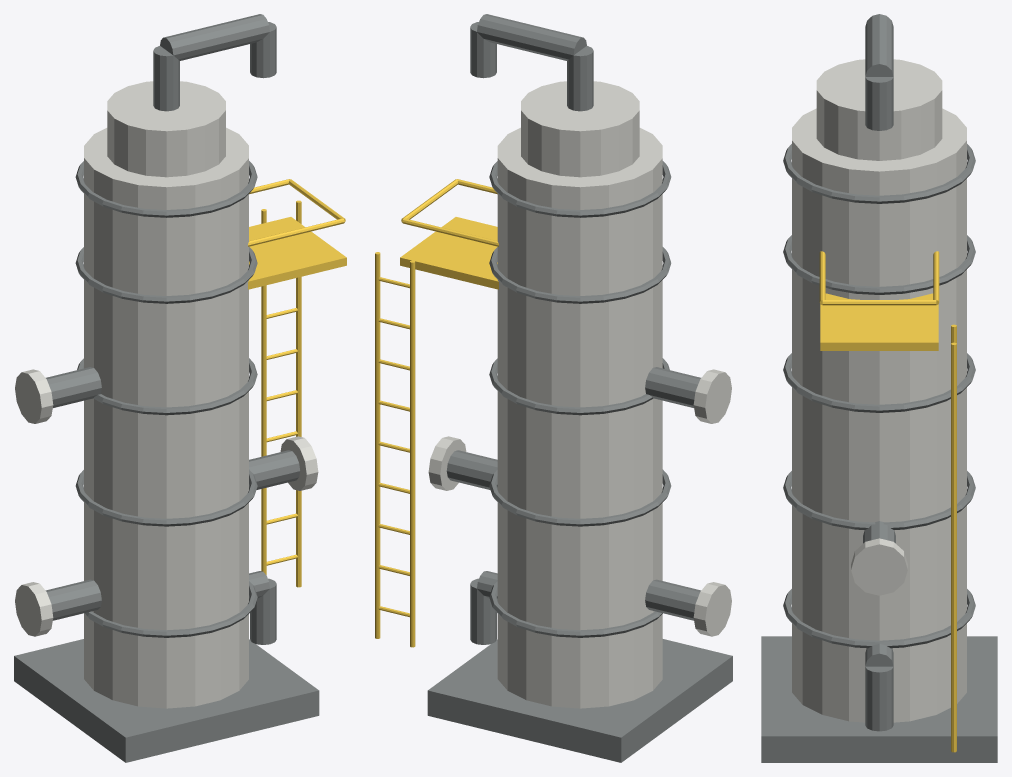
File: absorber column.fbx
The picture shows the model from 3 angles, left to right: view 1: azimuth 30°, elevation 25°; view 2: azimuth 150°, elevation 25°; view 3: azimuth 270°, elevation 25°; orthographic projection. The views are drawn at different scales.
Visible parts, largest first — view 1: Absorber_main_shell, Absorber_concrete_base, Absorber_top_dome, Absorber_platform, Absorber_top_pipe_horizontal, Absorber_flange_ring_2.1, Absorber_flange_ring_5.15, Absorber_flange_ring_4.3, Absorber_middle_flange, Absorber_bottom_flange, Absorber_ladder_right, Absorber_flange_ring_1.0 (+10 smaller); view 2: Absorber_main_shell, Absorber_concrete_base, Absorber_top_dome, Absorber_platform, Absorber_top_pipe_horizontal, Absorber_ladder_left, Absorber_ladder_right, Absorber_flange_ring_2.1, Absorber_flange_ring_5.15, Absorber_flange_ring_4.3, Absorber_middle_flange, Absorber_bottom_flange (+9 smaller); view 3: Absorber_main_shell, Absorber_concrete_base, Absorber_top_dome, Absorber_platform, Absorber_sideout_flange, Absorber_ladder_right, Absorber_flange_ring_5.15, Absorber_flange_ring_3.2, Absorber_flange_ring_4.3, Absorber_flange_ring_1.0, Absorber_flange_ring_2.1, Absorber_rich_out_down (+5 smaller).
Part boxes in pixels (x1,y1,x2,y2): Absorber_main_shell: (84, 127, 248, 708); Absorber_concrete_base: (14, 639, 319, 762); Absorber_top_dome: (107, 81, 225, 177); Absorber_platform: (248, 217, 346, 289); Absorber_top_pipe_horizontal: (160, 14, 269, 60); Absorber_flange_ring_2.1: (75, 469, 257, 526); Absorber_flange_ring_5.15: (75, 161, 257, 217); Absorber_flange_ring_4.3: (75, 247, 257, 303); Absorber_middle_flange: (15, 369, 53, 423); Absorber_bottom_flange: (15, 582, 53, 636); Absorber_ladder_right: (296, 200, 301, 587); Absorber_flange_ring_1.0: (84, 581, 257, 637); Absorber_main_shell: (497, 127, 662, 708); Absorber_concrete_base: (427, 639, 732, 762); Absorber_top_dome: (521, 81, 639, 177); Absorber_platform: (400, 217, 498, 289); Absorber_top_pipe_horizontal: (477, 14, 586, 60); Absorber_ladder_left: (410, 260, 415, 647); Absorber_ladder_right: (375, 252, 380, 638); Absorber_flange_ring_2.1: (489, 469, 671, 526); Absorber_flange_ring_5.15: (489, 161, 671, 217); Absorber_flange_ring_4.3: (489, 247, 671, 303); Absorber_middle_flange: (693, 369, 731, 423); Absorber_bottom_flange: (693, 582, 731, 636); Absorber_main_shell: (792, 108, 966, 722); Absorber_concrete_base: (761, 636, 997, 762); Absorber_top_dome: (816, 59, 942, 160); Absorber_platform: (820, 293, 938, 350); Absorber_sideout_flange: (851, 538, 907, 595); Absorber_ladder_right: (951, 342, 956, 752); Absorber_flange_ring_5.15: (783, 144, 975, 203); Absorber_flange_ring_3.2: (783, 353, 975, 412); Absorber_flange_ring_4.3: (783, 235, 975, 294); Absorber_flange_ring_1.0: (783, 589, 975, 648); Absorber_flange_ring_2.1: (783, 471, 975, 529); Absorber_rich_out_down: (865, 666, 893, 731).
Bounding box in the file's own units: 318 × 652 × 200.
